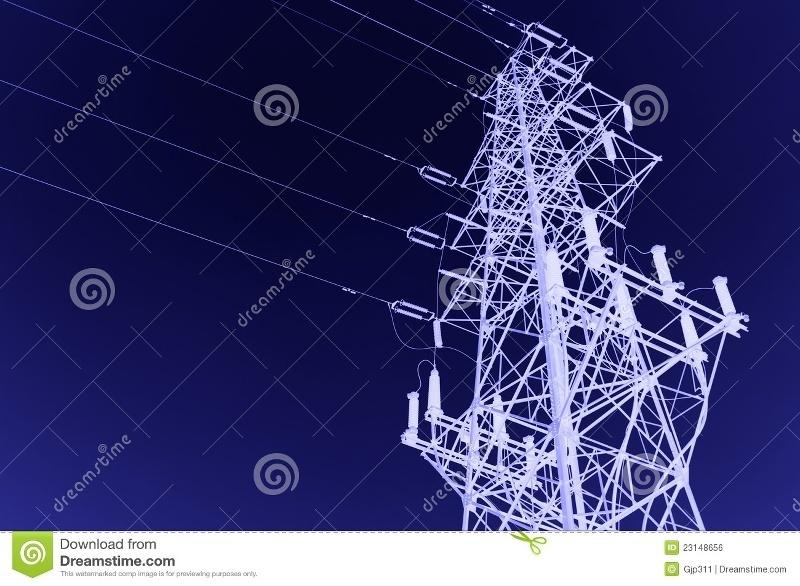power_tower: (433, 39, 714, 529)
